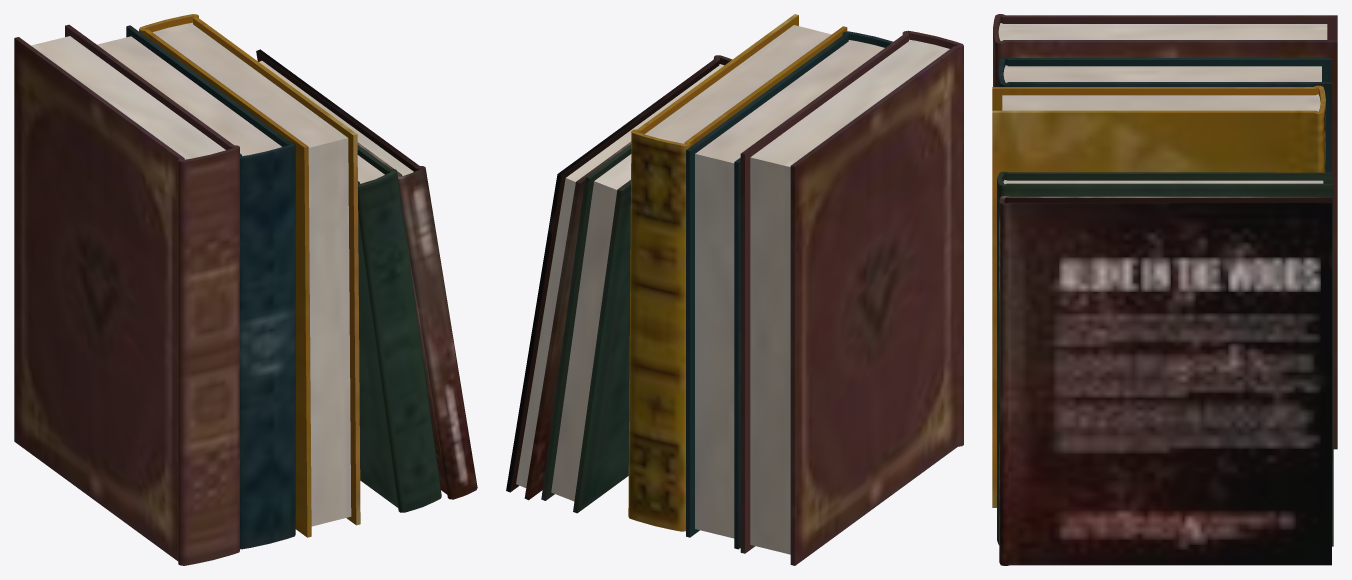
Rendered from cargo_books_d.glb.
The picture shows the model from 3 angles, left to right: view 1: azimuth 30°, elevation 25°; view 2: azimuth 150°, elevation 25°; view 3: azimuth 270°, elevation 25°; orthographic projection.
Visible parts, largest first — view 1: KB3D_API_PropBookset_D_Main; view 2: KB3D_API_PropBookset_D_Main; view 3: KB3D_API_PropBookset_D_Main.
Boxes of the visible parts, bbox=[...] form: KB3D_API_PropBookset_D_Main: bbox=[14, 14, 477, 565]; KB3D_API_PropBookset_D_Main: bbox=[506, 14, 963, 565]; KB3D_API_PropBookset_D_Main: bbox=[992, 14, 1337, 565].
Size of the model in its own units: 0.2056 by 0.2661 by 0.2034.
Materials: 1 (1 with a texture image).
